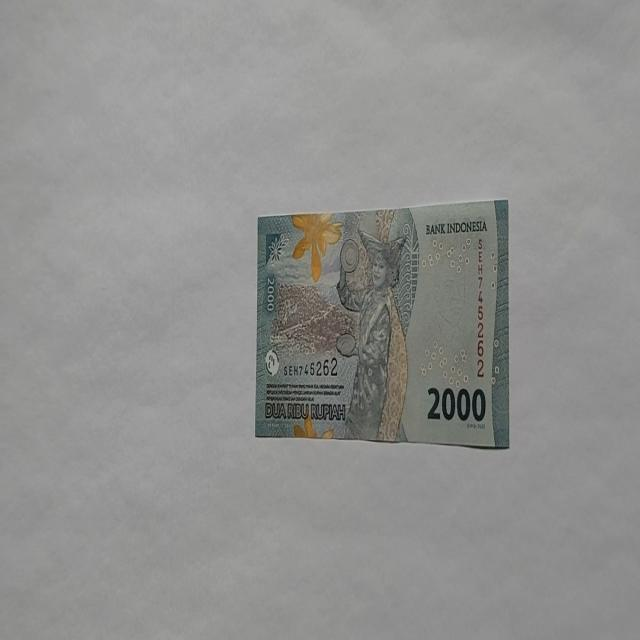dua ribu rupiah: (255, 198, 510, 448), (334, 226, 410, 441)
